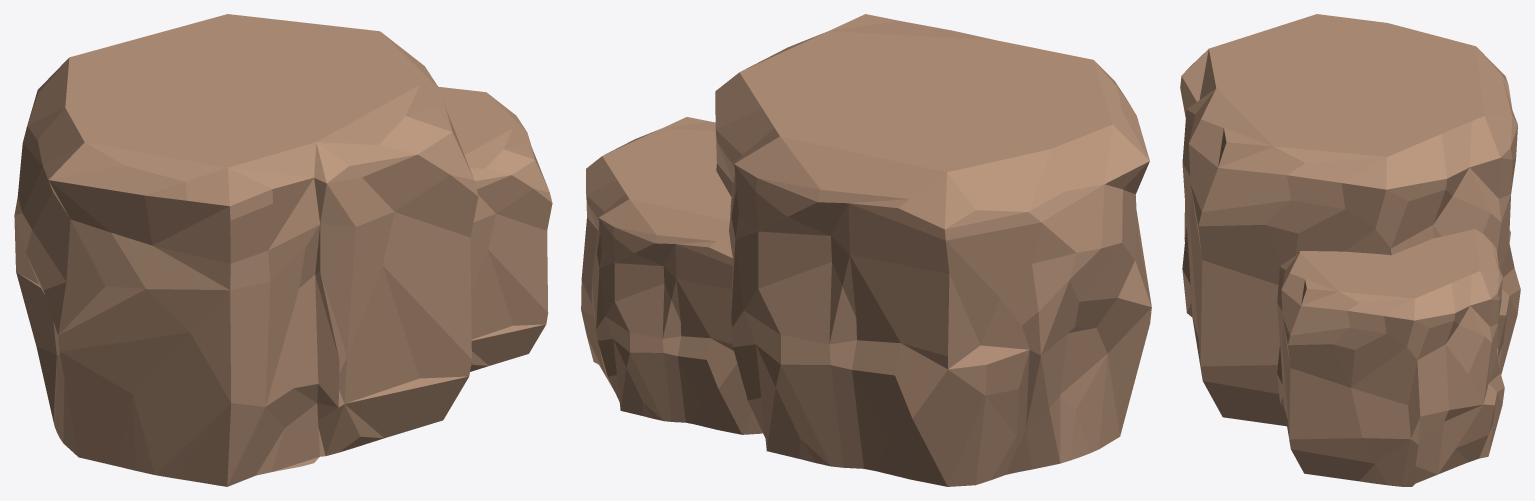
File: light_medium_rock.fbx
3 views of the same model, side by side, from view 1: azimuth 30°, elevation 25°; view 2: azimuth 150°, elevation 25°; view 3: azimuth 270°, elevation 25° (orthographic). The views are drawn at different scales.
Visible parts, largest first — view 1: light_medium_rock; view 2: light_medium_rock; view 3: light_medium_rock.
Part boxes in pixels (box(x1,y1,x2,y2)): light_medium_rock: box(14, 14, 552, 486); light_medium_rock: box(581, 14, 1151, 486); light_medium_rock: box(1180, 14, 1520, 486).
Bounding box in the file's own units: 9.81 × 5.72 × 6.45.
